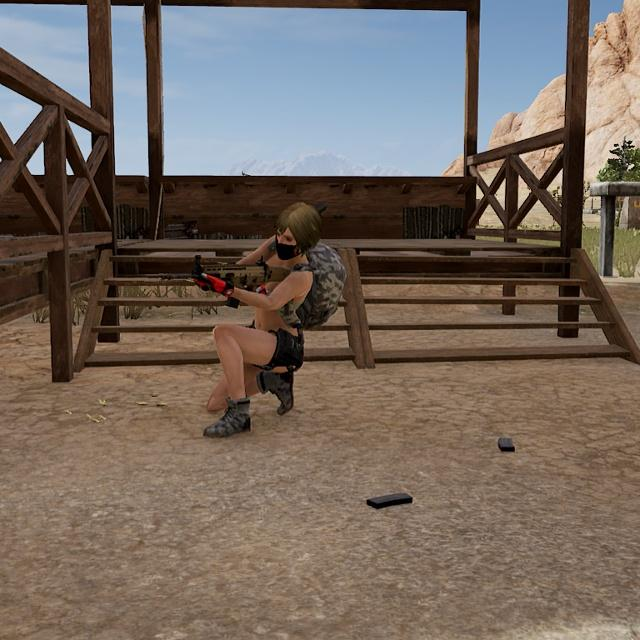head: (271, 197, 325, 267)
people: (185, 191, 346, 445)
